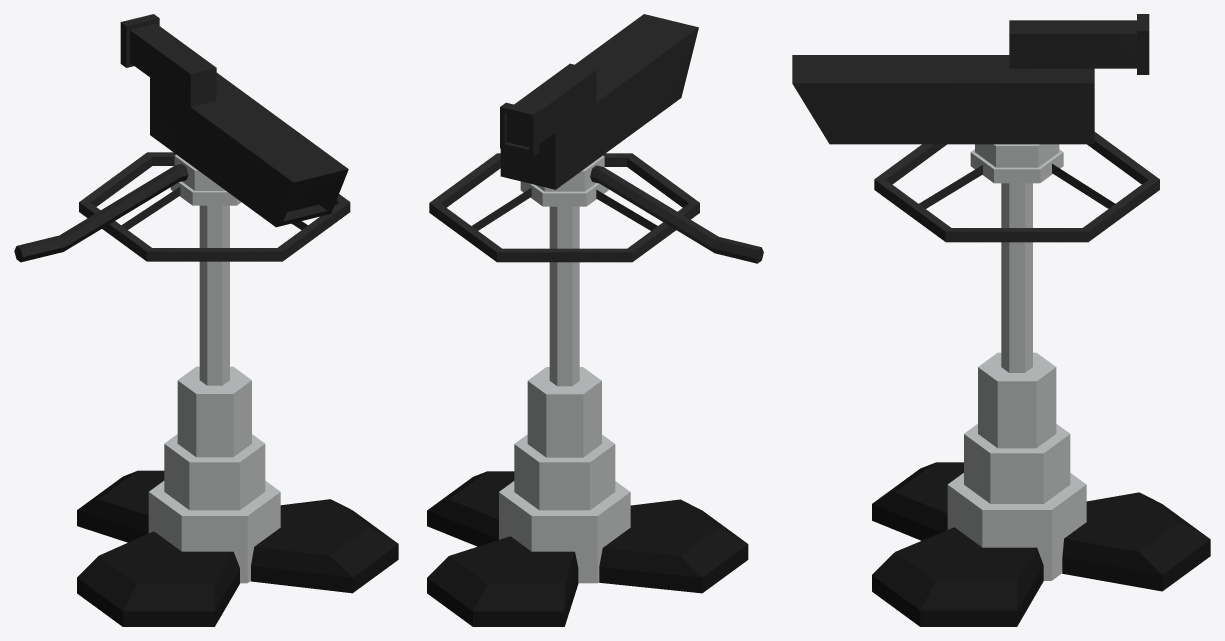
Rendered from Camera_0.3.fbx.
The picture shows the model from 3 angles, left to right: view 1: azimuth 30°, elevation 25°; view 2: azimuth 150°, elevation 25°; view 3: azimuth 270°, elevation 25°; orthographic projection. The views are drawn at different scales.
Parts seen in each view (by area): view 1: CAMERA; view 2: CAMERA; view 3: CAMERA.
Part boxes in pixels (x1,y1,x2,y2): CAMERA: (14,14,398,626); CAMERA: (427,14,763,626); CAMERA: (792,14,1210,626).
Size of the model in its own units: 135 by 139 by 193.
